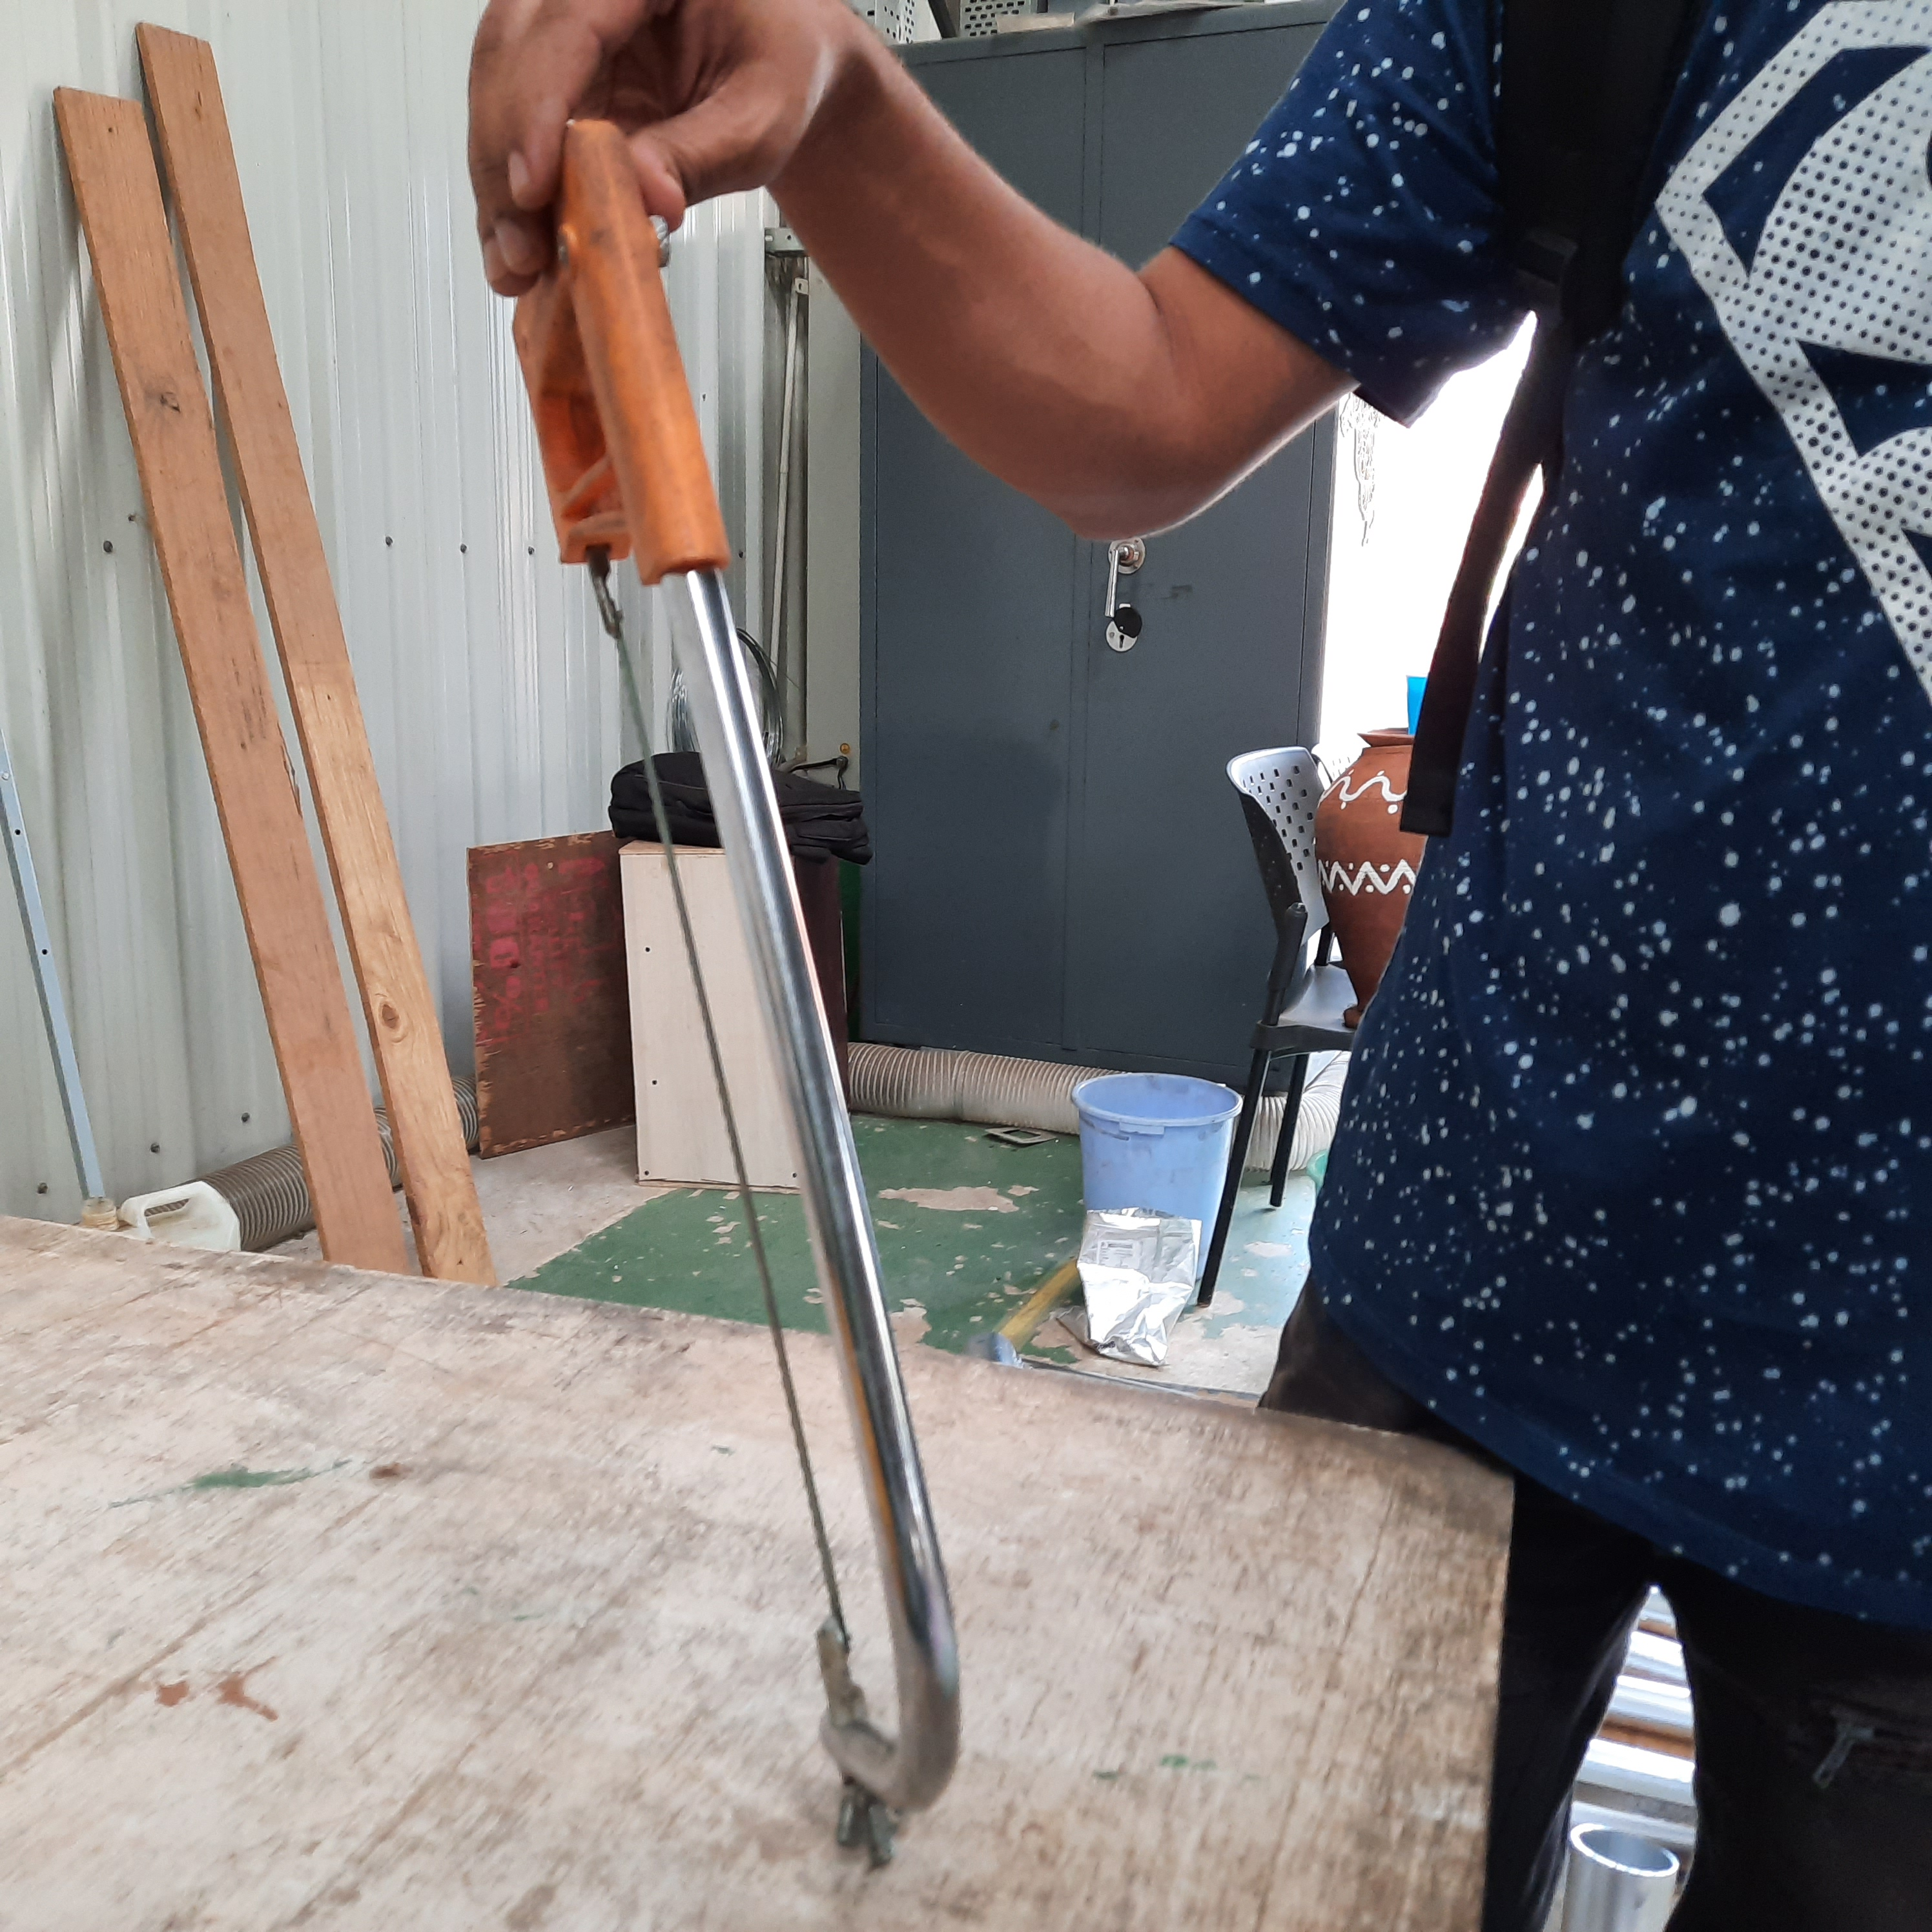Hexaframe: (423, 120, 1079, 1872)
